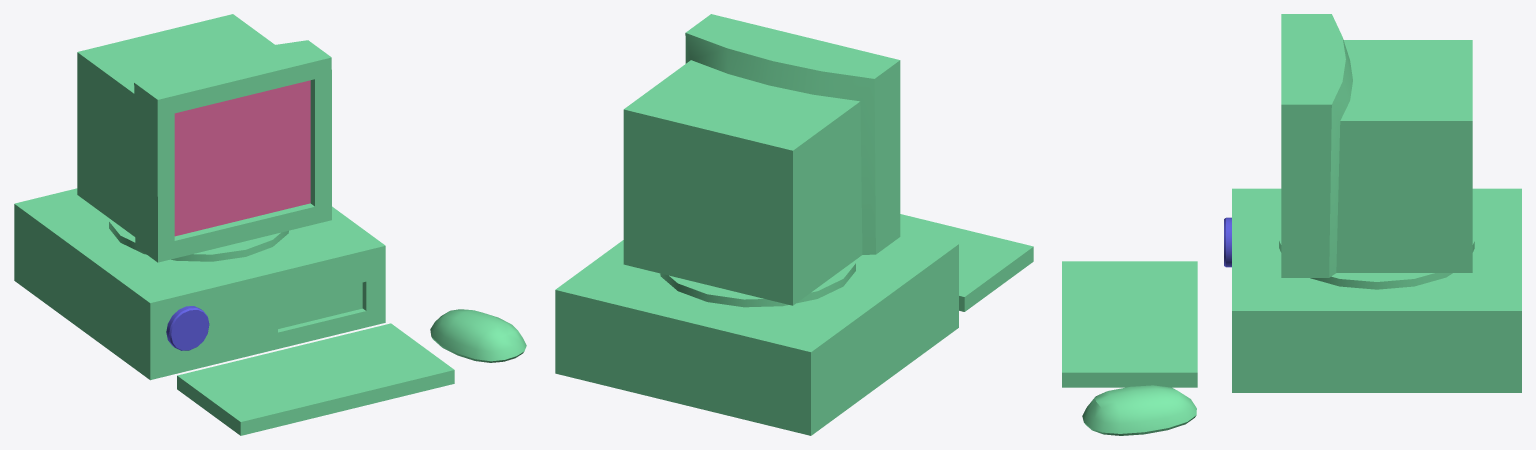
3 views of the same model, side by side, from view 1: azimuth 30°, elevation 25°; view 2: azimuth 150°, elevation 25°; view 3: azimuth 270°, elevation 25° (orthographic). The views are drawn at different scales.
Parts seen in each view (by area): view 1: PC; view 2: PC; view 3: PC.
Part boxes in pixels (x1,y1,x2,y2): PC: (14, 14, 526, 435); PC: (555, 14, 1033, 435); PC: (1062, 14, 1521, 435).
Size of the model in its own units: 1.3 by 0.9991 by 1.52.
